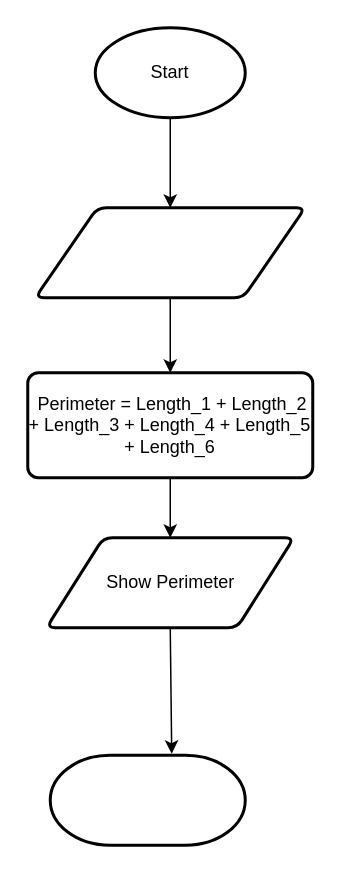
This 339x872 diagram has some shape labels left out. Here are the shapes that lost their labels. From the top down, the centre of each, then its label:
the point at 169,252: Get Length of all 6 sides
the point at 147,799: Stop
